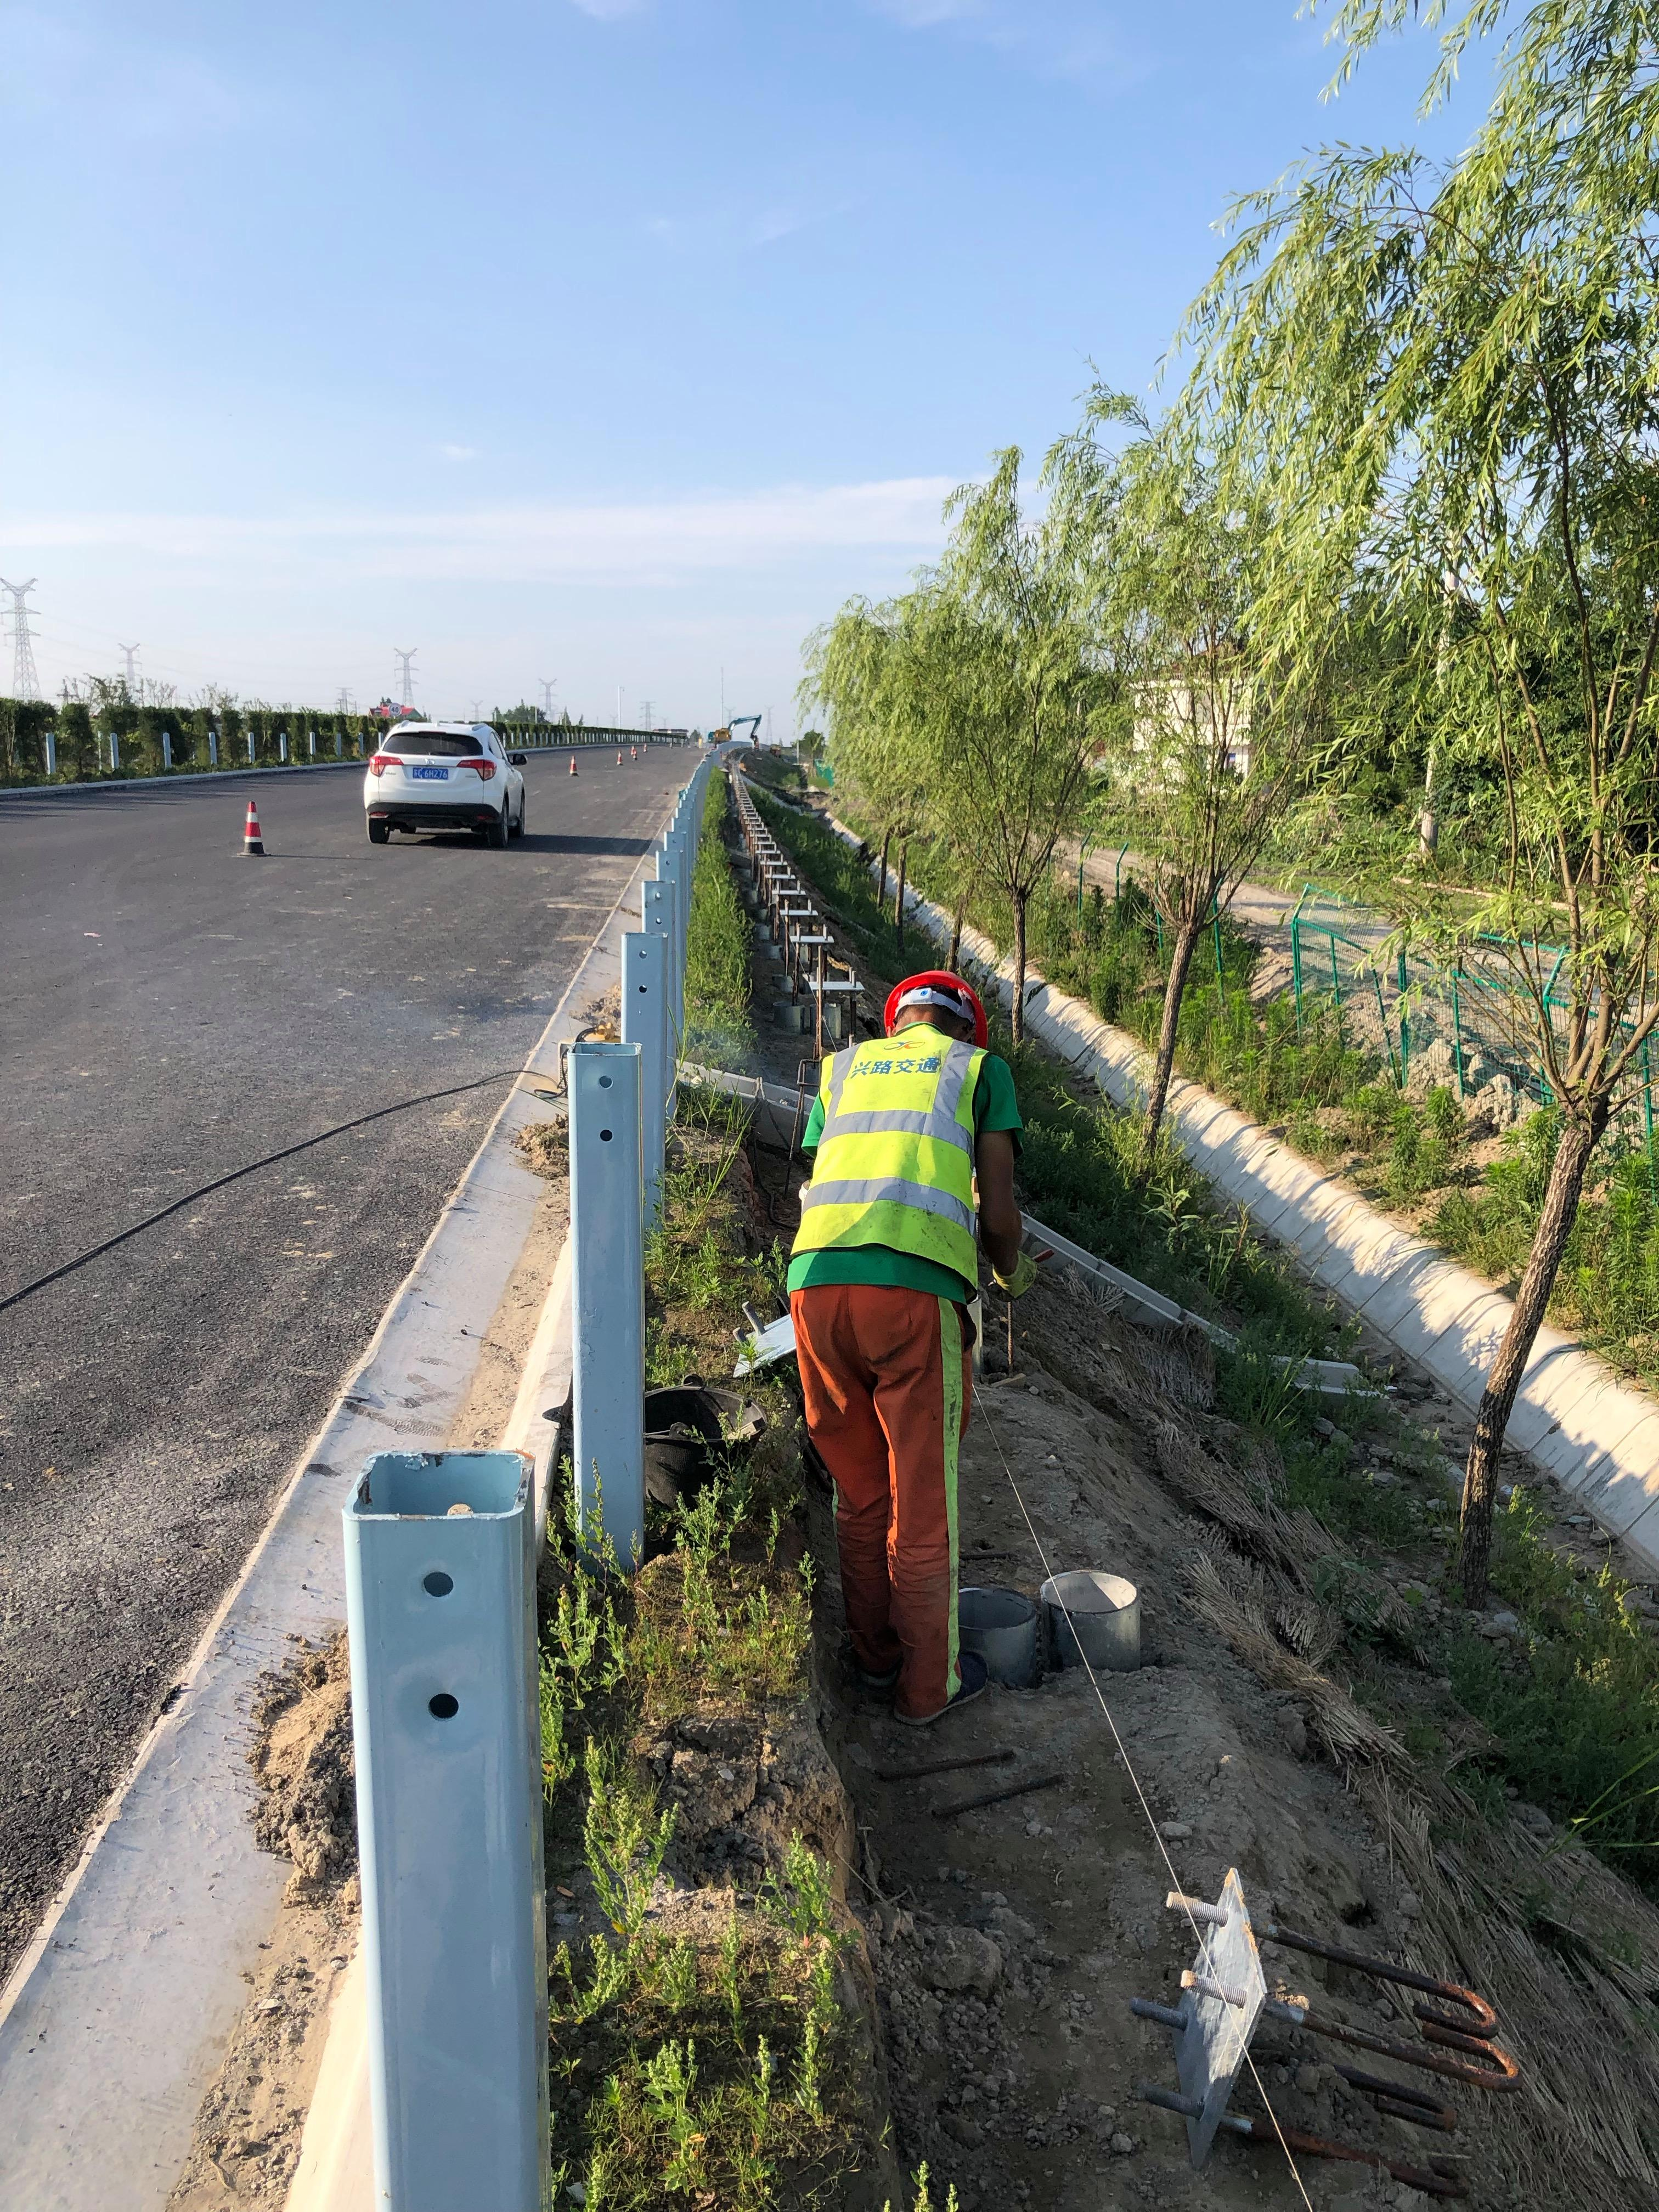person: (781, 963, 1033, 1720)
reflective_vest: (785, 1020, 992, 1284)
safety_helmet: (881, 957, 986, 1046)
